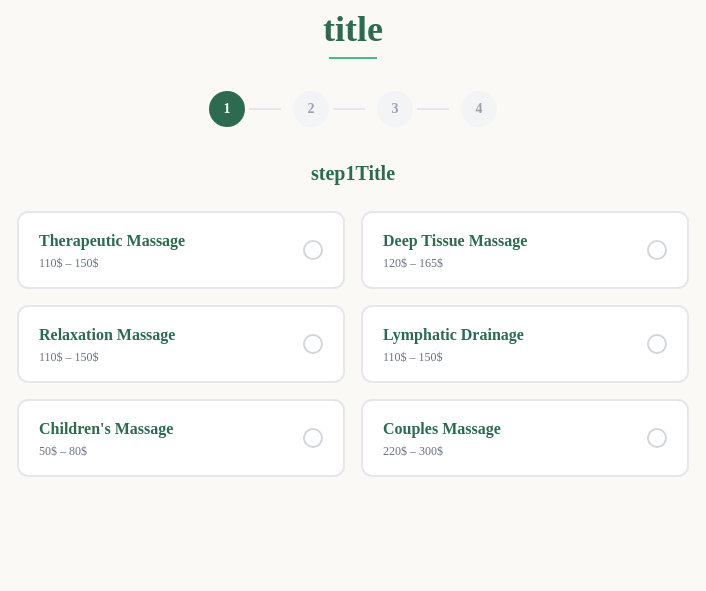
Scenario: BookingWizard › 2. clicking a service shows duration options
This screenshot has width=706, height=591.
Click the button with test id "service-card-therapeutic".
click(181, 250)  # box [19, 213, 343, 287]
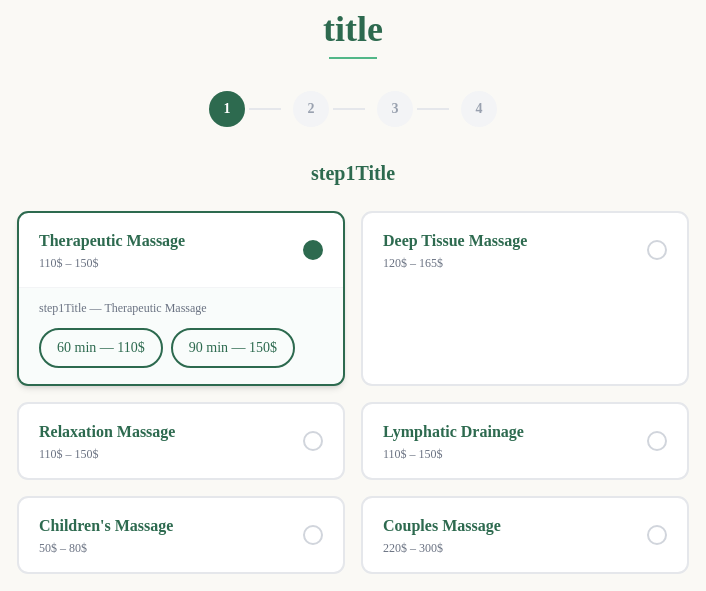
Result: the element with test id "duration-options-therapeutic" is shown at [39, 328, 323, 368]
